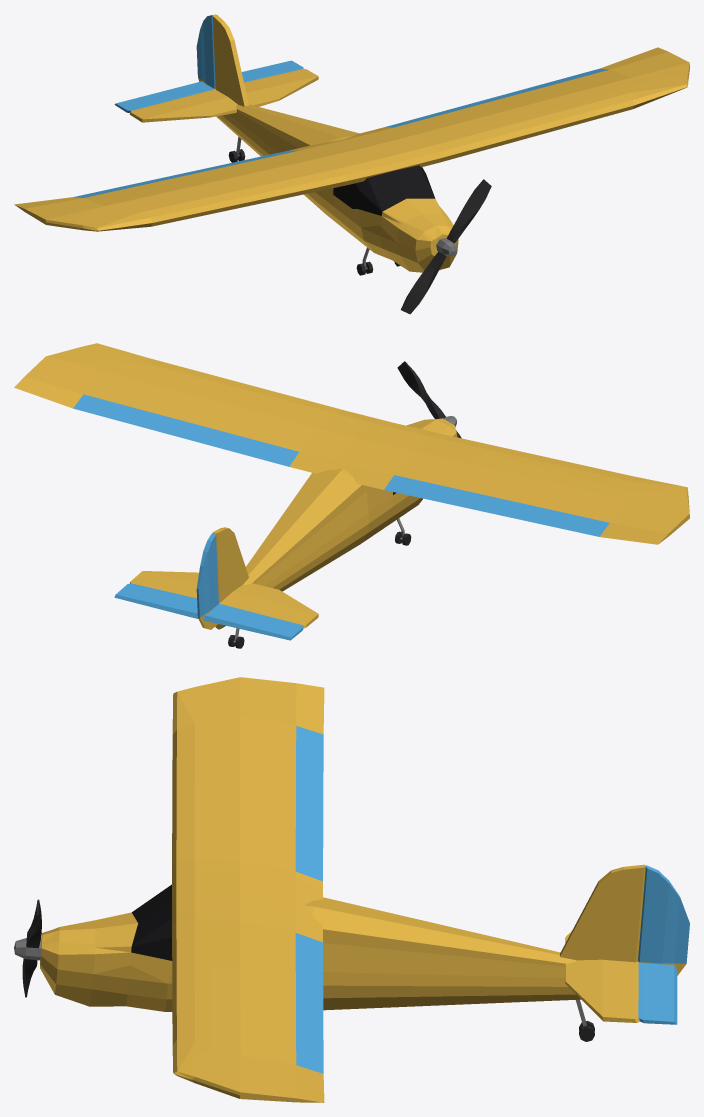
The model's file is Small_Airplane_03.fbx.
3 renders of one model, top to bottom at view 1: azimuth 30°, elevation 25°; view 2: azimuth 150°, elevation 25°; view 3: azimuth 270°, elevation 25°, orthographic. The views are drawn at different scales.
Parts seen in each view (by area): view 1: Small_Airplane_03, Small_Airplane_03_Prop, Small_Airplane_03_Aileron_R, Small_Airplane_03_Aileron_RR, Small_Airplane_03_Aileron_FL, Small_Airplane_03_Aileron_FR, Small_Airplane_03_Aileron_RL; view 2: Small_Airplane_03, Small_Airplane_03_Aileron_FL, Small_Airplane_03_Aileron_FR, Small_Airplane_03_Aileron_RR, Small_Airplane_03_Aileron_RL, Small_Airplane_03_Aileron_R, Small_Airplane_03_Prop; view 3: Small_Airplane_03, Small_Airplane_03_Aileron_FR, Small_Airplane_03_Aileron_R, Small_Airplane_03_Aileron_FL, Small_Airplane_03_Aileron_RL, Small_Airplane_03_Prop.
Boxes of the visible parts, x1,y1,x2,y2 form: Small_Airplane_03: [14, 14, 689, 275]; Small_Airplane_03_Prop: [401, 179, 491, 314]; Small_Airplane_03_Aileron_R: [196, 15, 215, 88]; Small_Airplane_03_Aileron_RR: [114, 81, 214, 112]; Small_Airplane_03_Aileron_FL: [385, 68, 608, 127]; Small_Airplane_03_Aileron_FR: [73, 150, 298, 197]; Small_Airplane_03_Aileron_RL: [241, 60, 303, 82]; Small_Airplane_03: [14, 343, 689, 648]; Small_Airplane_03_Aileron_FL: [73, 394, 298, 466]; Small_Airplane_03_Aileron_FR: [384, 475, 609, 536]; Small_Airplane_03_Aileron_RR: [203, 603, 303, 640]; Small_Airplane_03_Aileron_RL: [114, 583, 198, 618]; Small_Airplane_03_Aileron_R: [196, 533, 218, 618]; Small_Airplane_03_Prop: [397, 361, 461, 438]; Small_Airplane_03: [40, 677, 686, 1102]; Small_Airplane_03_Aileron_FR: [295, 726, 323, 881]; Small_Airplane_03_Aileron_R: [638, 865, 689, 963]; Small_Airplane_03_Aileron_FL: [295, 933, 323, 1073]; Small_Airplane_03_Aileron_RL: [638, 962, 677, 1024]; Small_Airplane_03_Prop: [14, 899, 41, 997].
Bounding box in the file's own units: 1591 × 308 × 1095.
